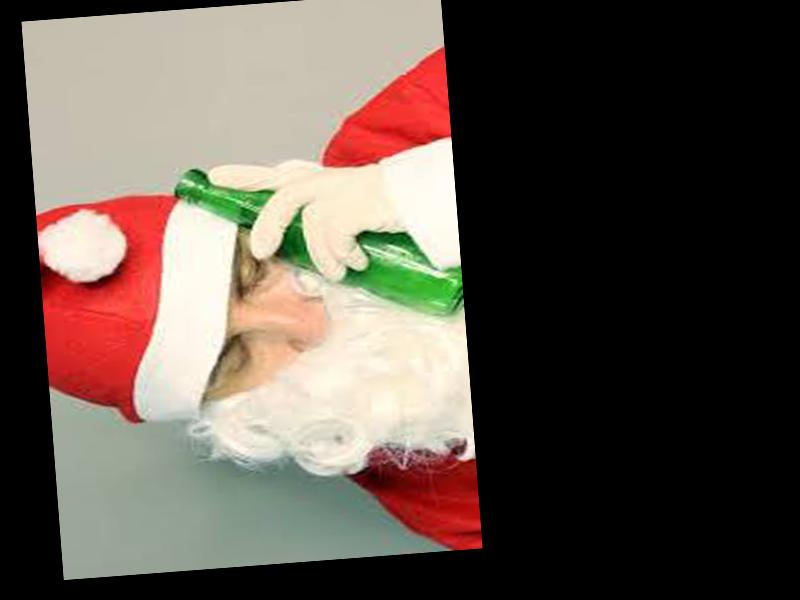Beer: (175, 147, 464, 332)
